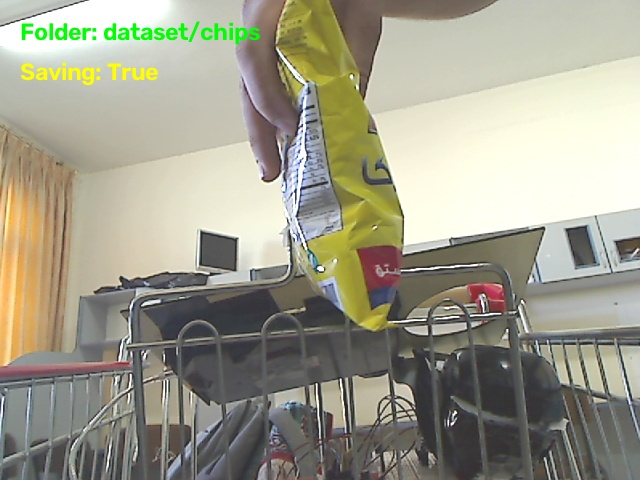chips: (276, 0, 403, 330)
